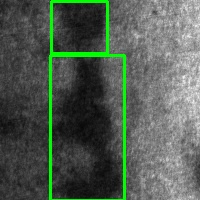patches: (50, 55, 124, 200), (51, 1, 107, 53)
